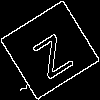Z: (25, 25, 75, 80)
